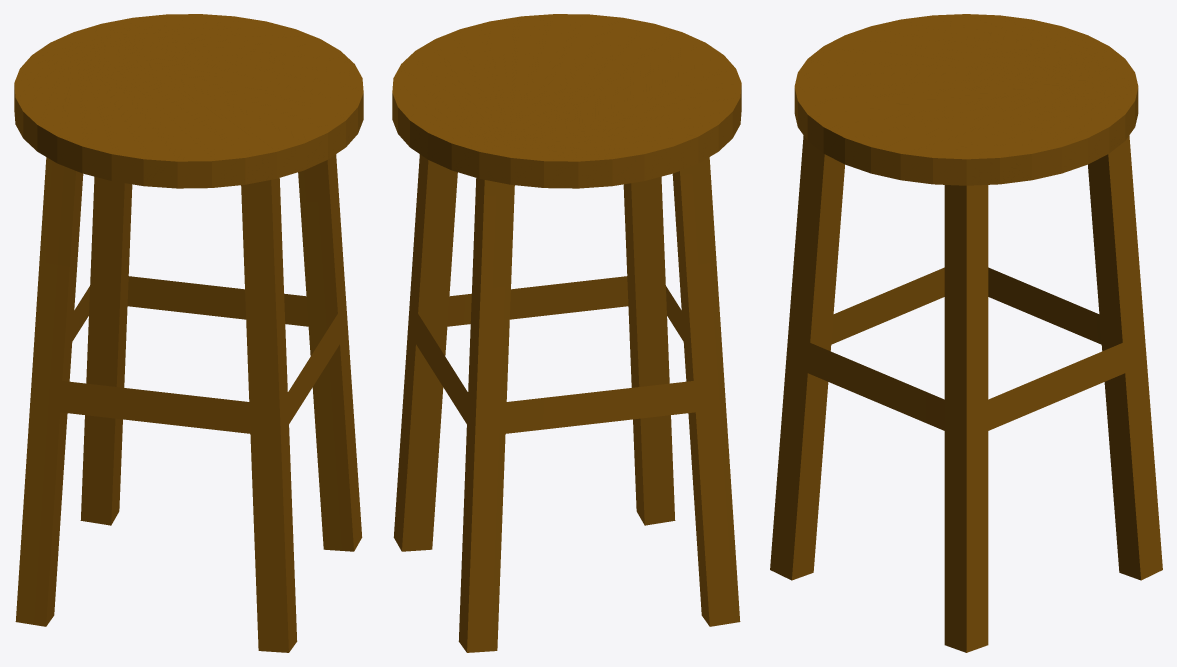
File: BarChair.fbx
3 renders of one model, left to right at view 1: azimuth 30°, elevation 25°; view 2: azimuth 150°, elevation 25°; view 3: azimuth 270°, elevation 25°, orthographic.
Parts seen in each view (by area): view 1: Circle; view 2: Circle; view 3: Circle.
Part boxes in pixels (x1,y1,x2,y2): Circle: (14, 14, 363, 652); Circle: (392, 14, 741, 652); Circle: (770, 14, 1162, 652).
Bounding box in the file's own units: 229 × 312 × 229.
